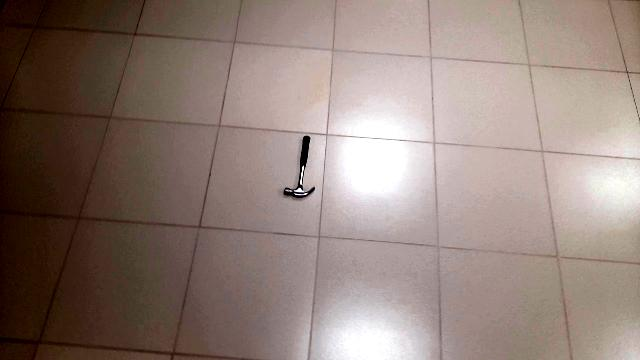hammer: (278, 130, 318, 200)
